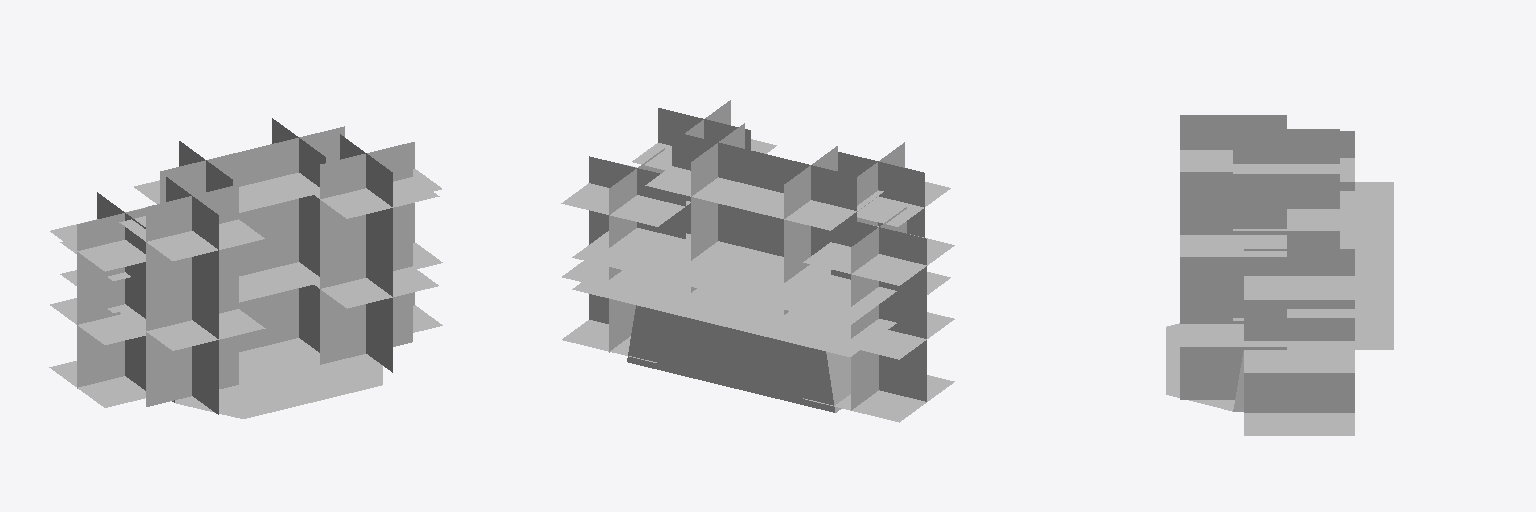
The model's file is r0_roundForestEnter.obj.
3 renders of one model, left to right at view 1: azimuth 30°, elevation 25°; view 2: azimuth 150°, elevation 25°; view 3: azimuth 270°, elevation 25°, orthographic.
Parts seen in each view (by area): view 1: map; view 2: map; view 3: map.
Boxes of the visible parts, x1,y1,x2,y2 form: map: [49, 118, 442, 418]; map: [561, 100, 954, 422]; map: [1166, 115, 1393, 435].
Size of the model in its own units: 7 by 4.14 by 4.08.